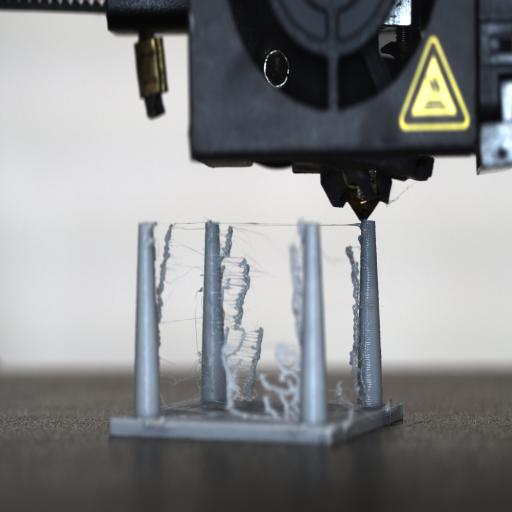stringing: (156, 219, 356, 424)
